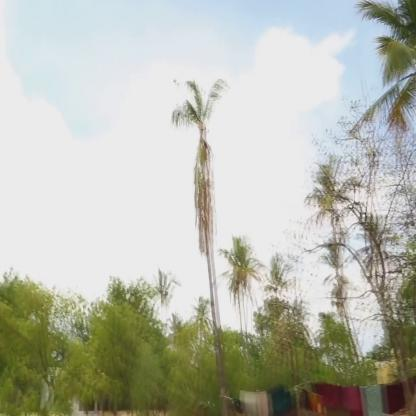drone: (173, 73, 182, 90)
